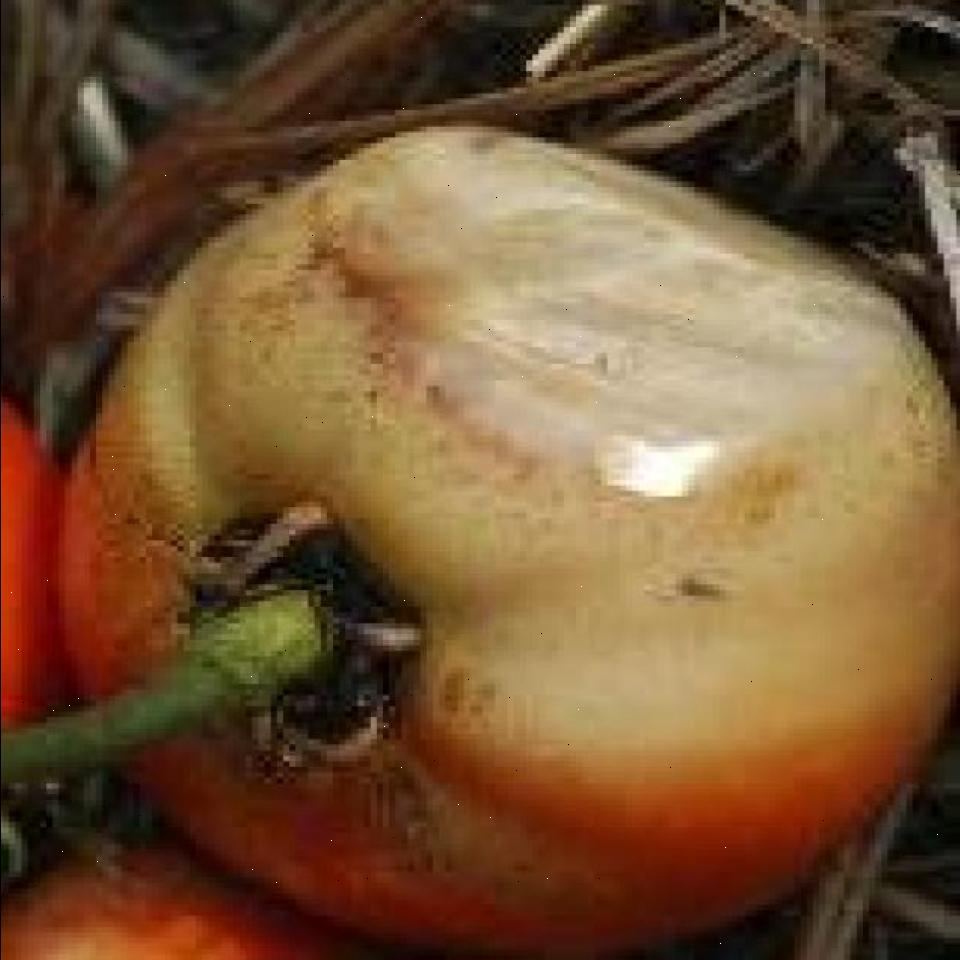Sunscald: (279, 126, 928, 502)
